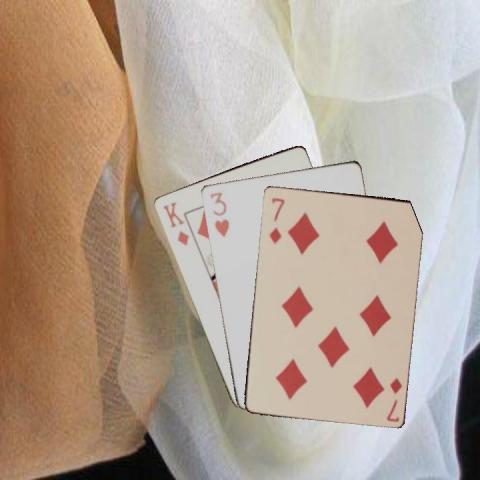3h: (206, 188, 230, 238)
7d: (266, 194, 286, 245), (384, 375, 404, 423)
Kd: (159, 198, 190, 246)
